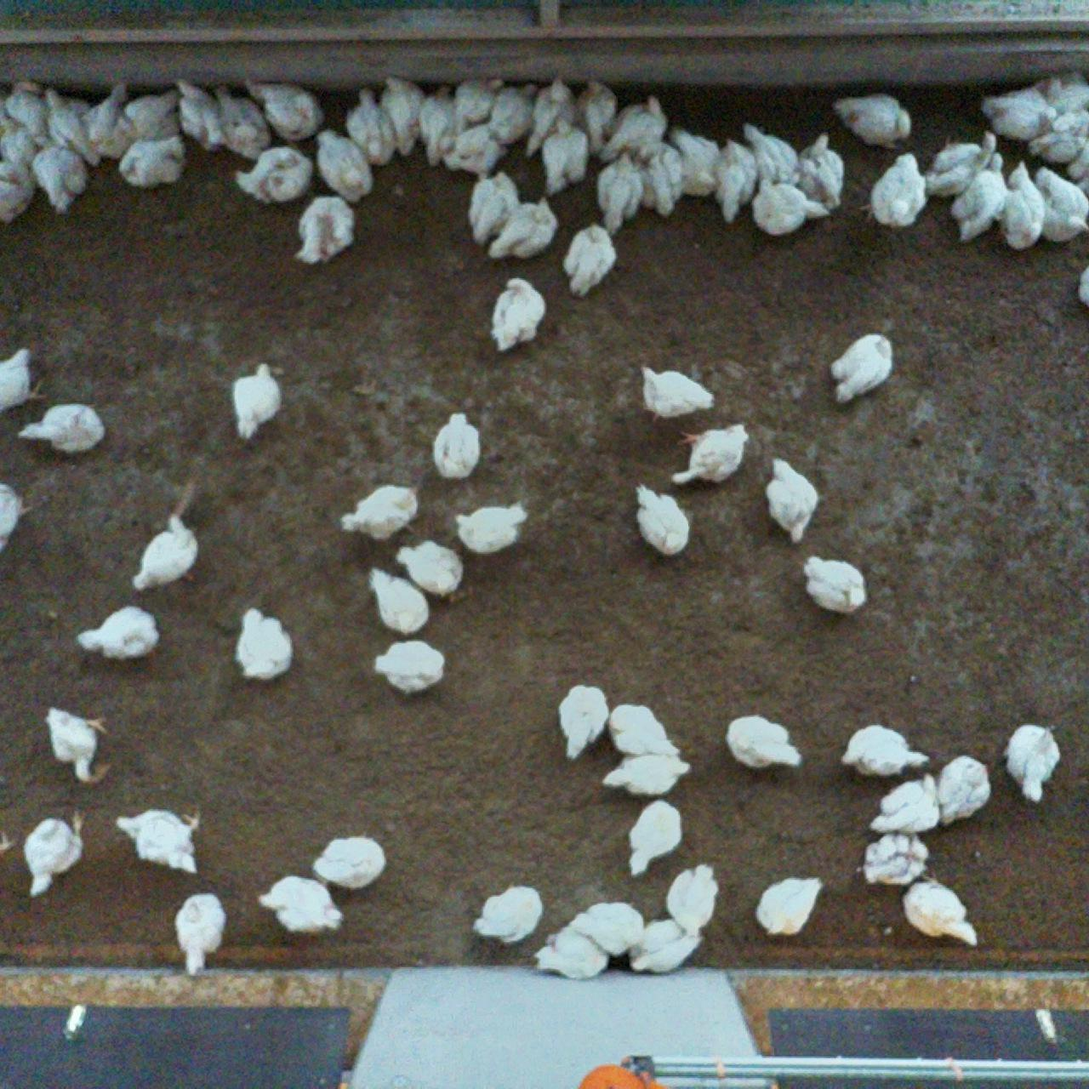chicken: (131, 506, 201, 598), (115, 809, 206, 875), (902, 873, 978, 951), (22, 809, 87, 899), (41, 702, 111, 785), (862, 149, 930, 231), (667, 420, 750, 485), (243, 76, 324, 142), (258, 873, 344, 935), (764, 453, 821, 545), (17, 398, 105, 457), (228, 144, 313, 205), (168, 73, 235, 150), (952, 151, 1008, 242), (925, 129, 999, 197), (830, 329, 897, 404), (837, 723, 930, 777), (639, 361, 716, 426), (439, 116, 512, 184), (599, 92, 666, 166), (1003, 721, 1063, 803), (75, 607, 158, 666), (293, 193, 358, 268), (749, 180, 833, 238), (338, 480, 419, 540), (40, 87, 102, 165), (725, 713, 806, 772), (234, 605, 295, 683), (997, 162, 1050, 251), (212, 81, 273, 158), (488, 194, 559, 260), (835, 94, 915, 152), (313, 126, 376, 199), (311, 833, 390, 891), (593, 147, 645, 235), (228, 358, 285, 438), (633, 480, 690, 560), (799, 549, 869, 614), (565, 900, 646, 956), (629, 917, 707, 975), (665, 123, 724, 199), (473, 882, 544, 945), (453, 500, 530, 558), (869, 774, 943, 834), (605, 699, 679, 759), (467, 170, 523, 249), (490, 276, 548, 352), (367, 563, 428, 635), (564, 223, 620, 301), (31, 138, 89, 213), (176, 891, 226, 978), (393, 537, 465, 597), (1033, 166, 1089, 243), (711, 135, 760, 223), (935, 752, 992, 827), (416, 81, 465, 168), (756, 876, 827, 936), (638, 139, 689, 221), (79, 80, 130, 162), (858, 829, 931, 886), (118, 132, 192, 188), (665, 864, 720, 939), (525, 75, 579, 151), (557, 684, 610, 761), (541, 116, 590, 199), (794, 129, 846, 207), (374, 70, 420, 157), (373, 638, 445, 693), (743, 121, 801, 189), (431, 410, 484, 482), (345, 85, 393, 164), (537, 927, 607, 980), (984, 87, 1052, 141), (574, 74, 621, 151), (486, 78, 538, 147), (120, 84, 183, 140), (0, 339, 45, 417), (0, 78, 54, 141), (0, 476, 34, 565), (1024, 111, 1089, 157), (453, 73, 503, 128), (0, 106, 41, 169), (0, 158, 28, 227), (1041, 71, 1089, 111), (1065, 141, 1089, 198), (1075, 260, 1089, 310)
